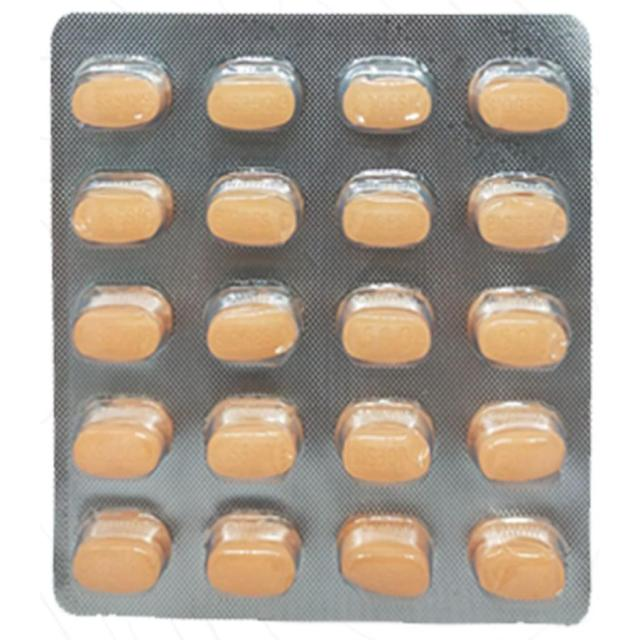blister: (44, 7, 597, 630)
